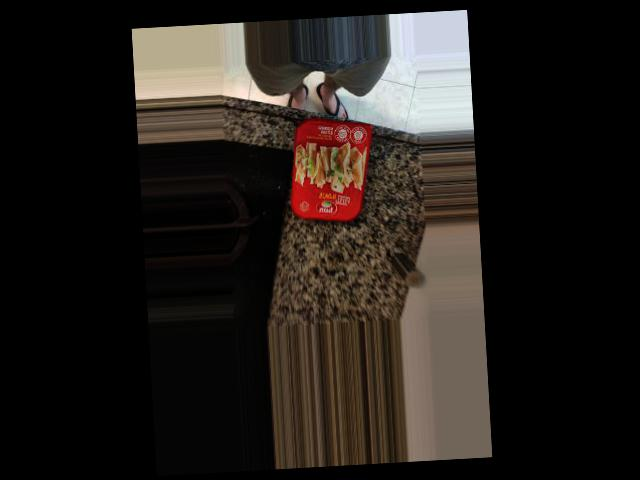cheese: (270, 162, 364, 277)
